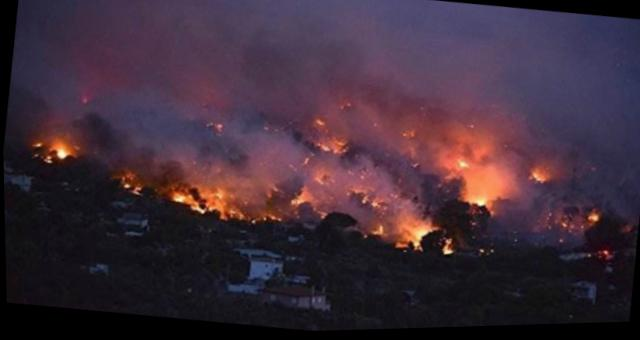fire: (112, 75, 512, 258), (38, 133, 79, 170), (525, 162, 551, 192), (579, 207, 606, 232)
